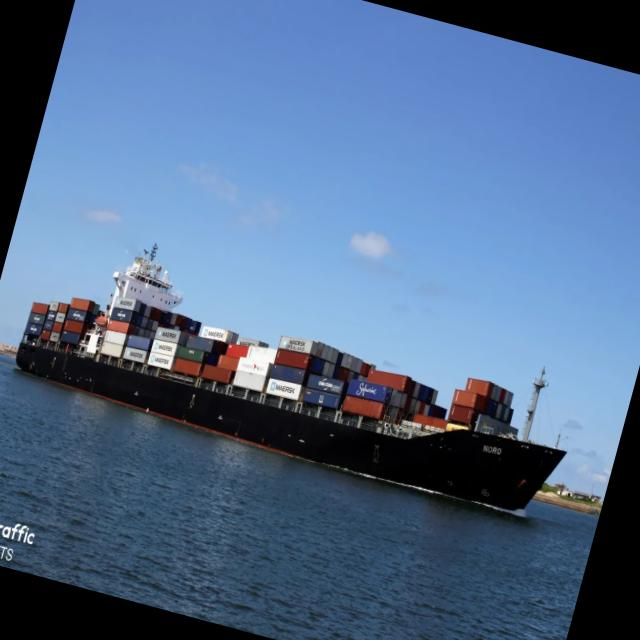Cargo: (16, 251, 564, 510)
